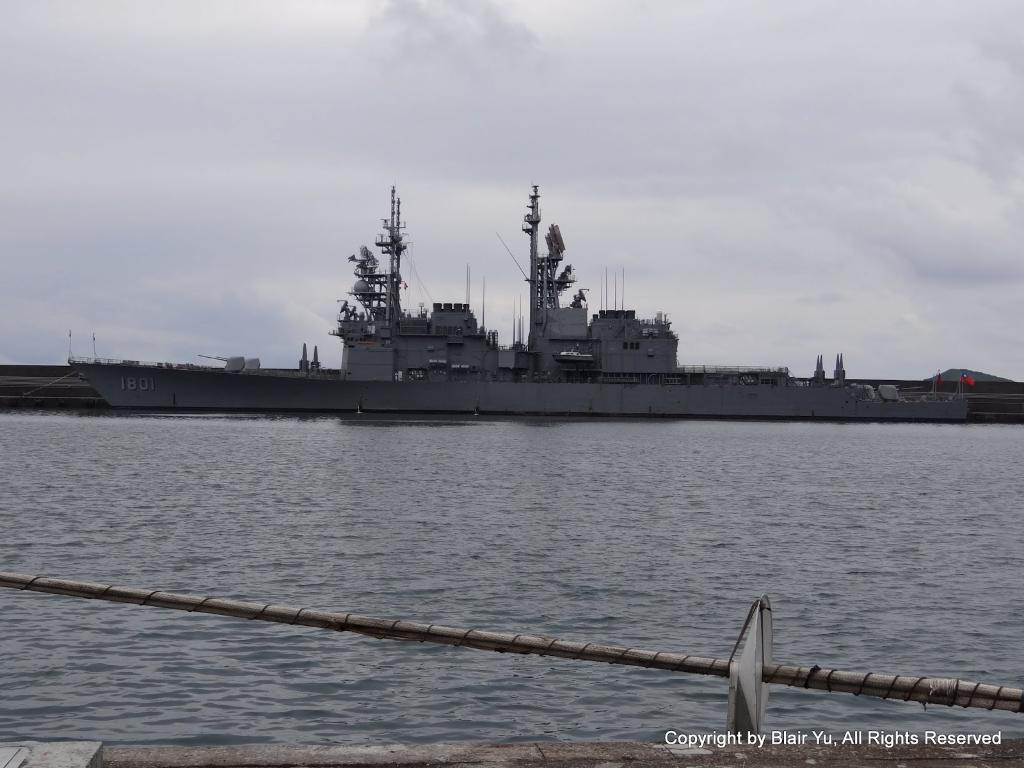Warship: (66, 191, 974, 420)
